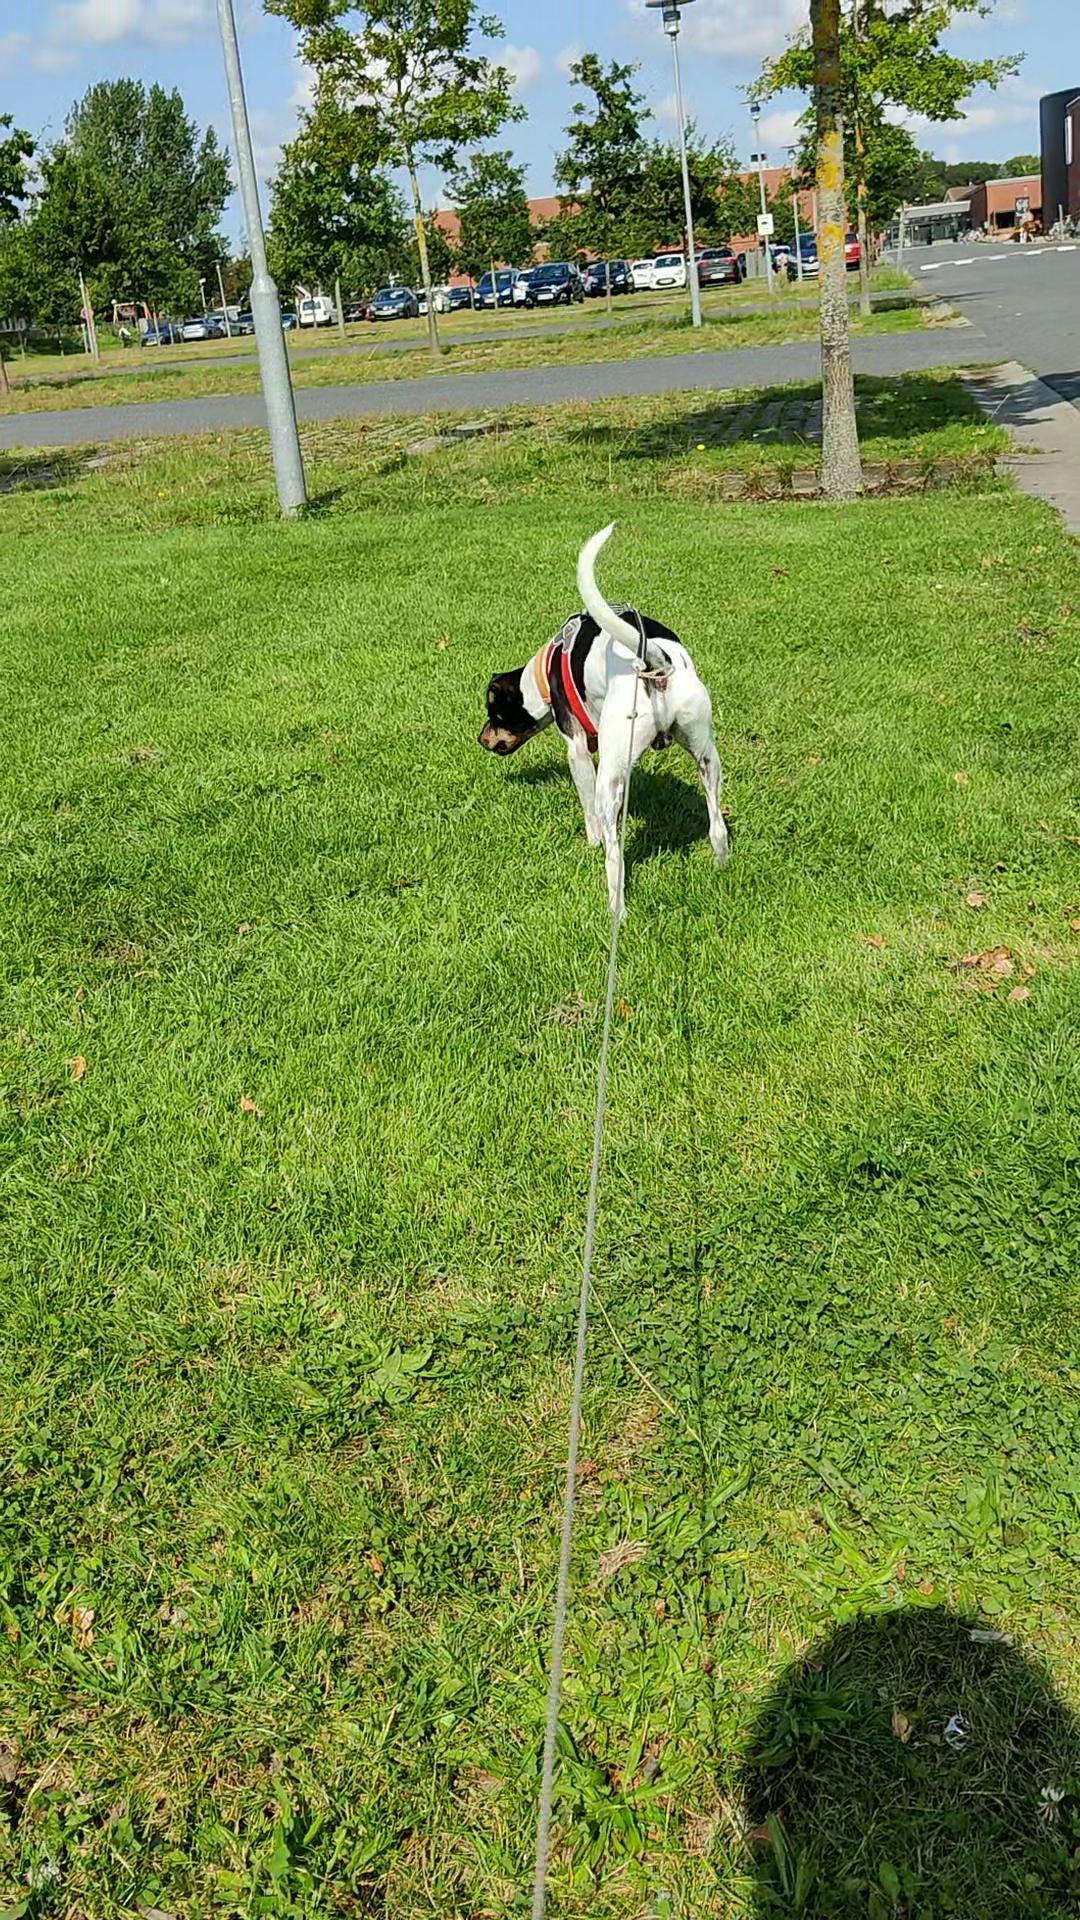Dog: (475, 513, 736, 931)
